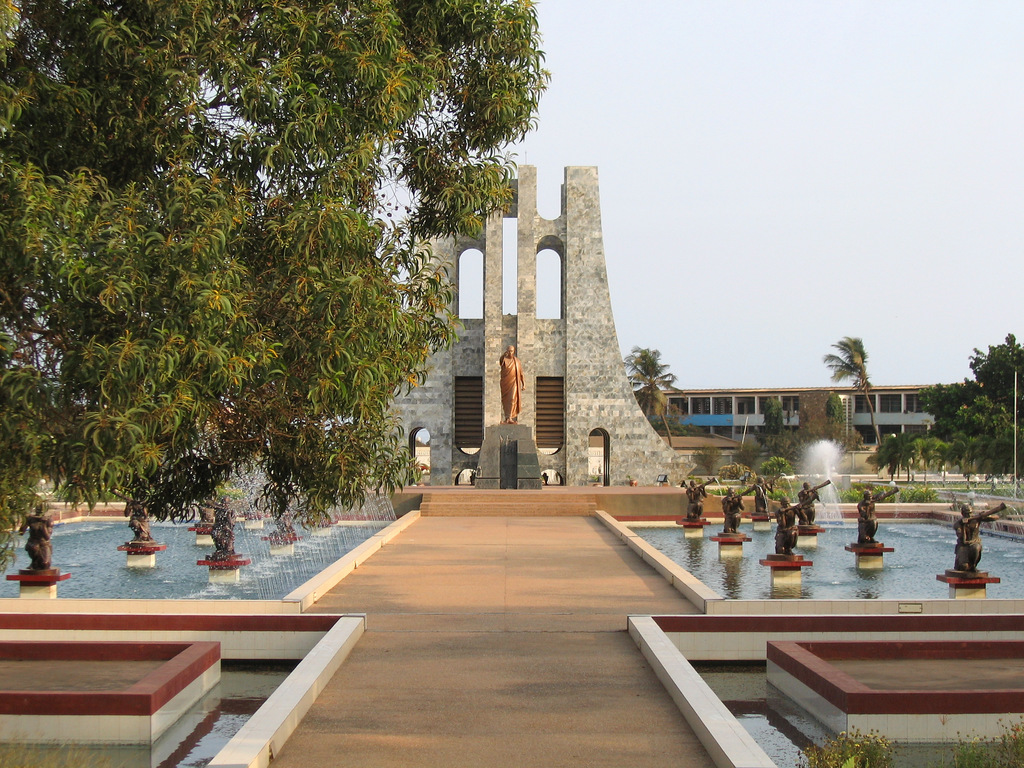Tree: (33, 14, 732, 555), (864, 330, 1023, 481), (616, 345, 688, 453), (824, 337, 890, 451), (791, 387, 862, 452), (652, 397, 701, 448), (758, 395, 792, 452)
